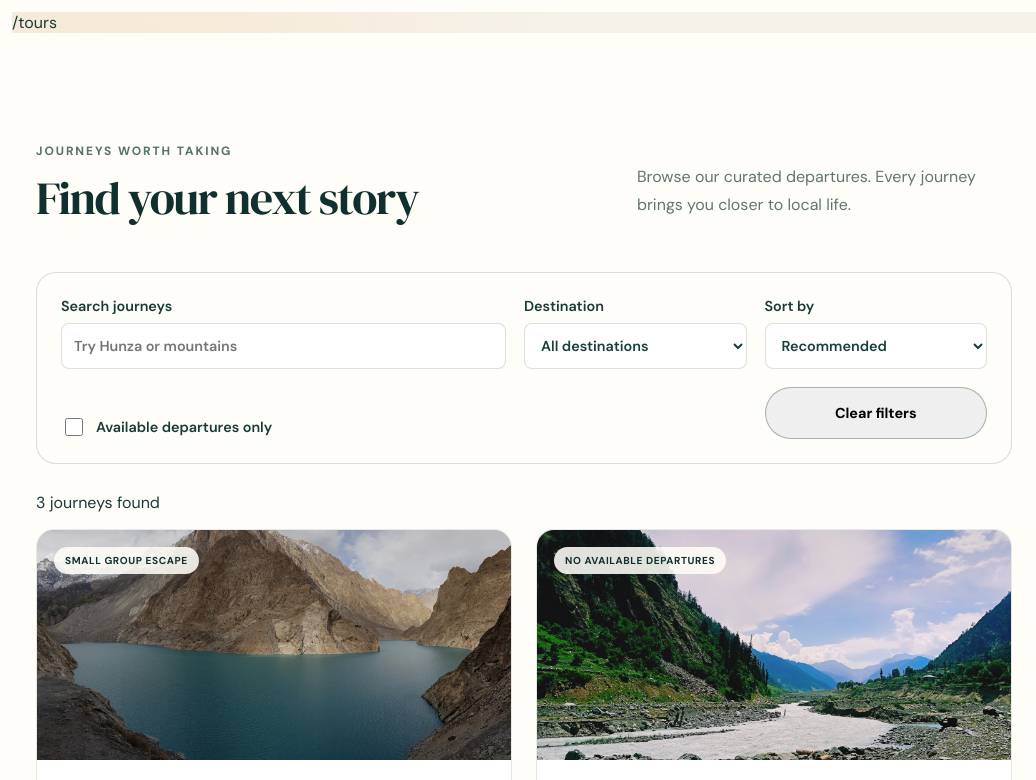
Test case: Website completion › excludes sold-out and past departures when availability is selected
Click the checkbox labelled "Available departures only". click: (74, 427)
box: [65,418,83,436]
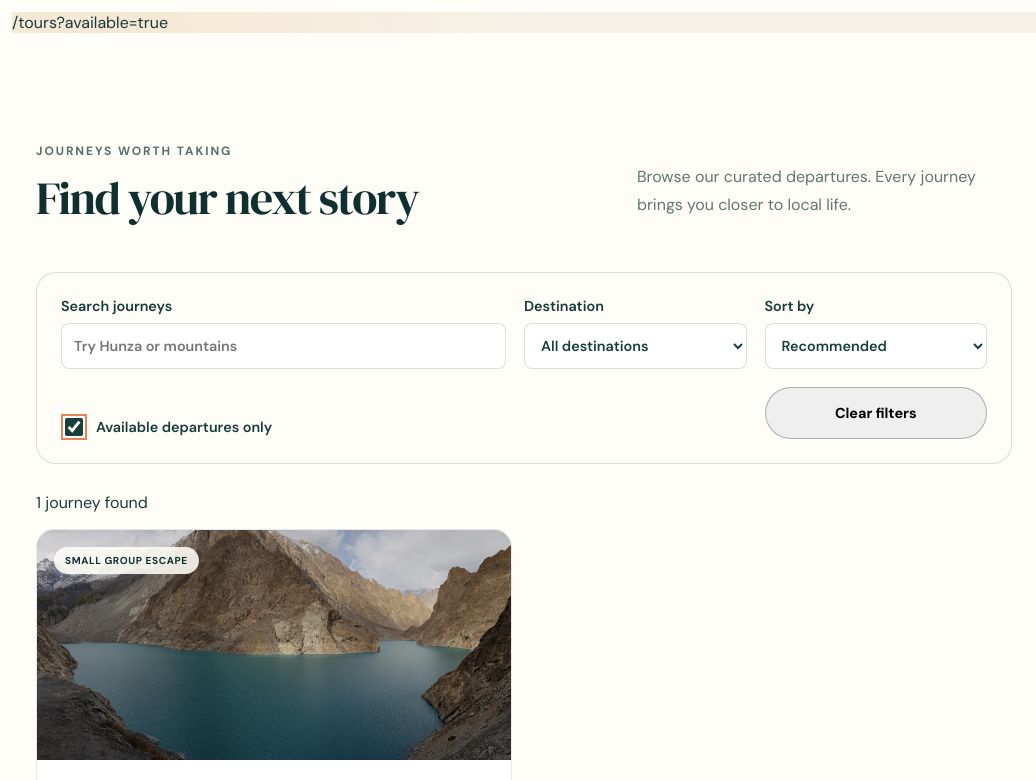
expect the text with test id "location" shows "available=true": met, box [56,12,168,33]
